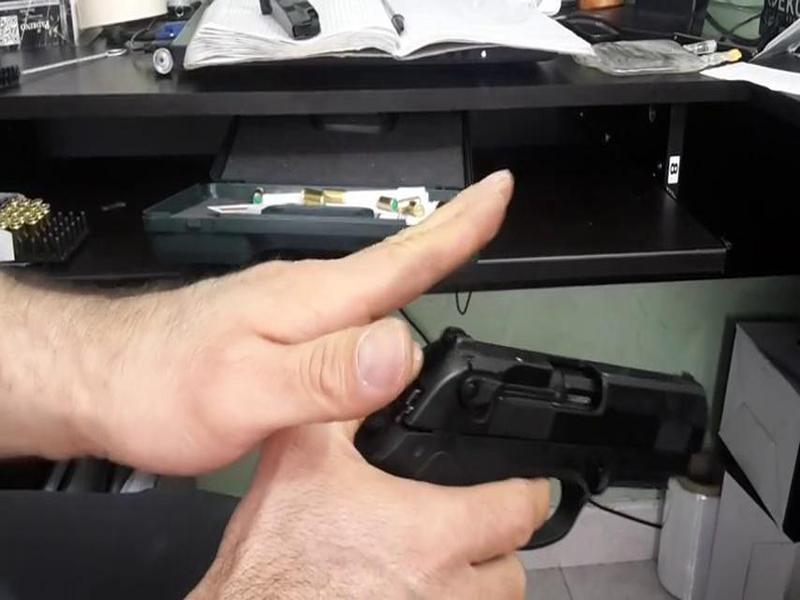Pistola: (345, 312, 732, 590)
